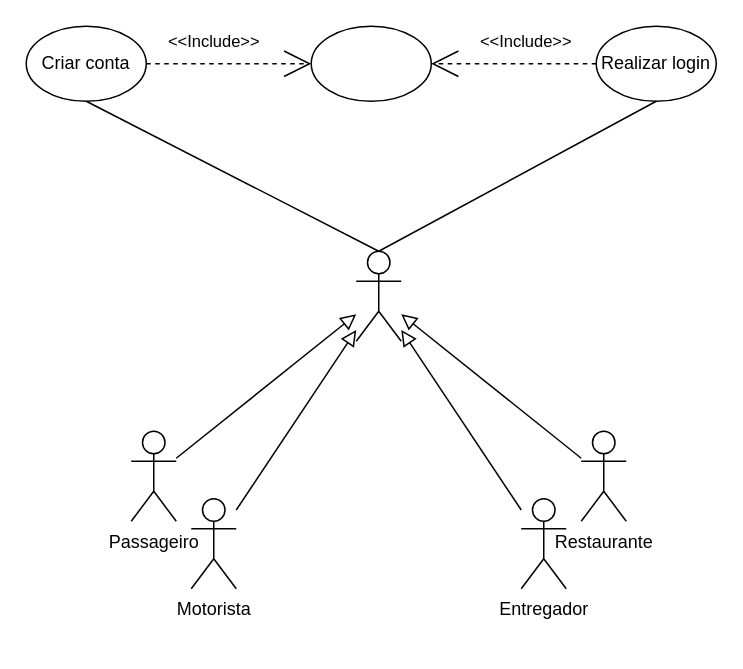
Image size: 743x669. Some labels were removed from this diagram. Each missing label, with the centre of its shape:
"Preencher dados" belongs at [370,63].
"Usuário" belongs at [378,295].
